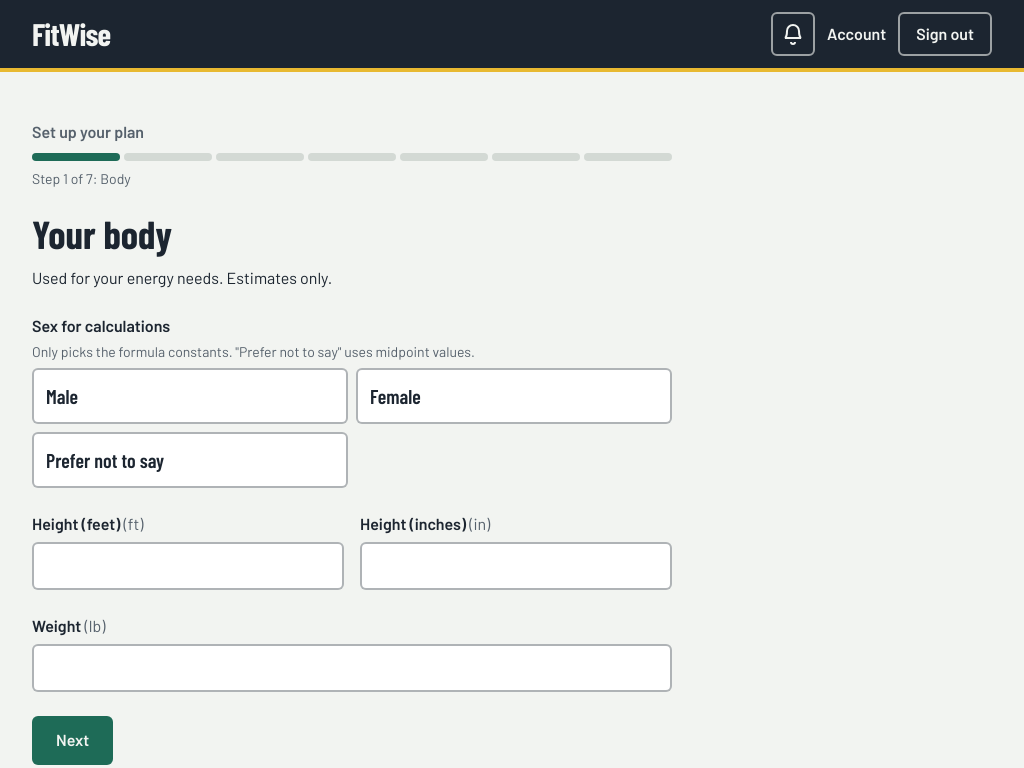
it: Onboarding wizard › shows range errors in the user's units and stays on the step
Expected: the heading "Your body" is shown, x1=32 y1=210 x2=172 y2=257
Click the radio button labelled "Female" at (395, 396), box x1=356 y1=368 x2=672 y2=424
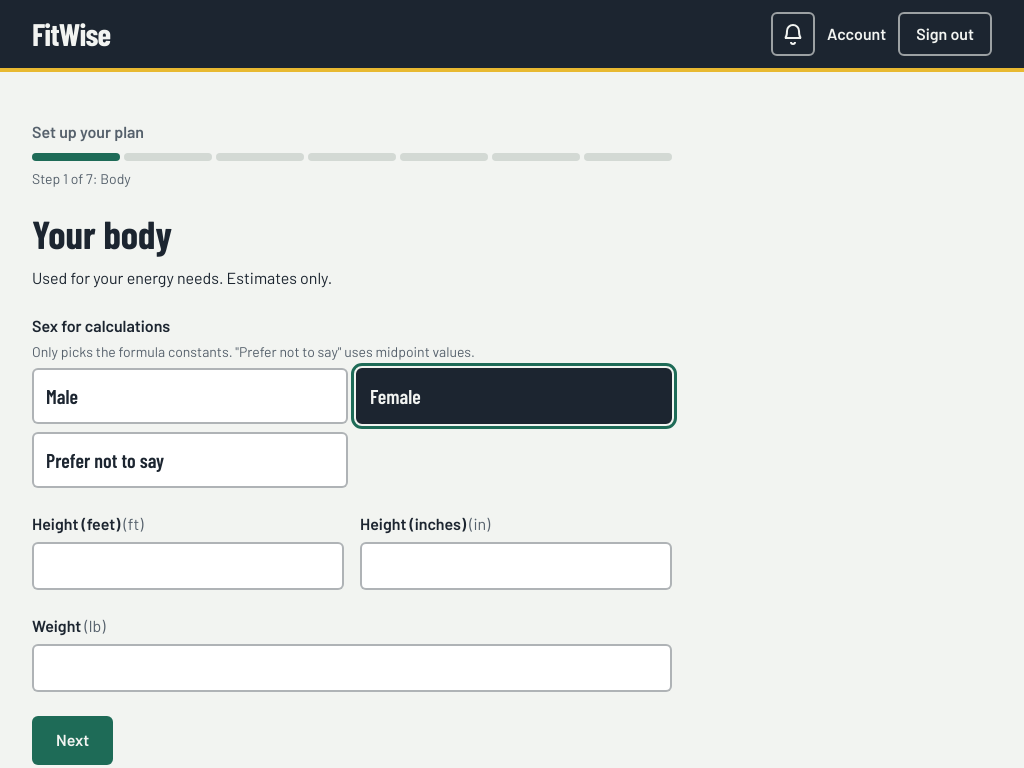
Type "3" into the field labelled "Height (feet) (ft)" at (188, 566), box x1=32 y1=542 x2=344 y2=590
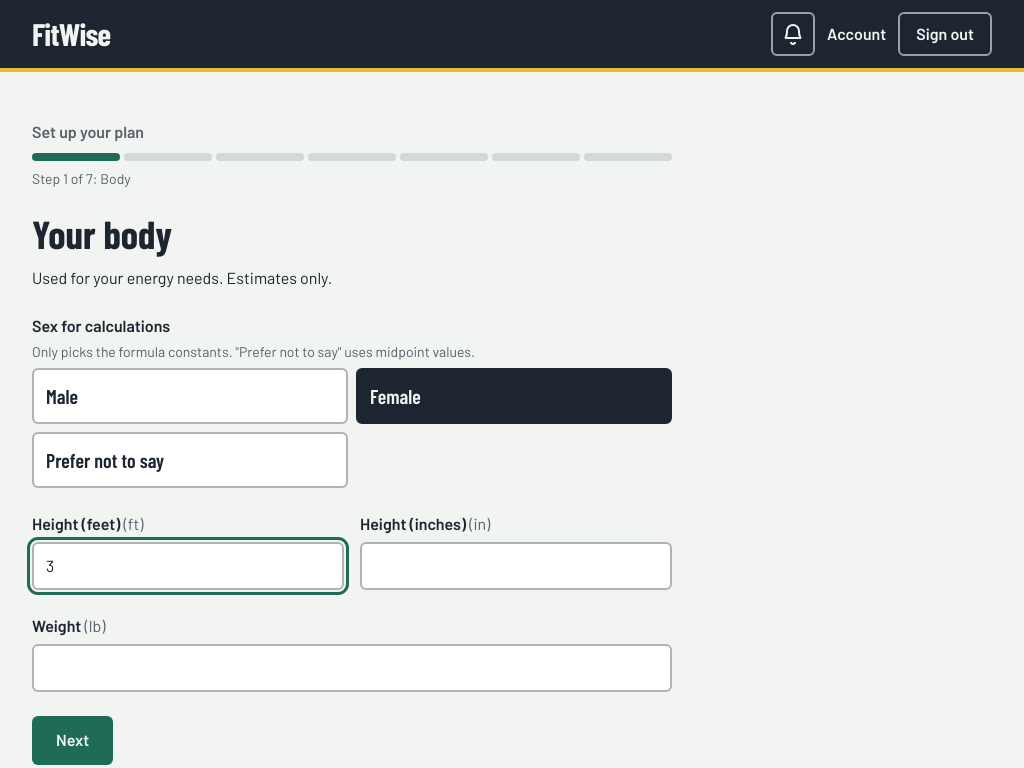
Type "20" into the field labelled "Weight (lb)" at (352, 668), box x1=32 y1=644 x2=672 y2=692
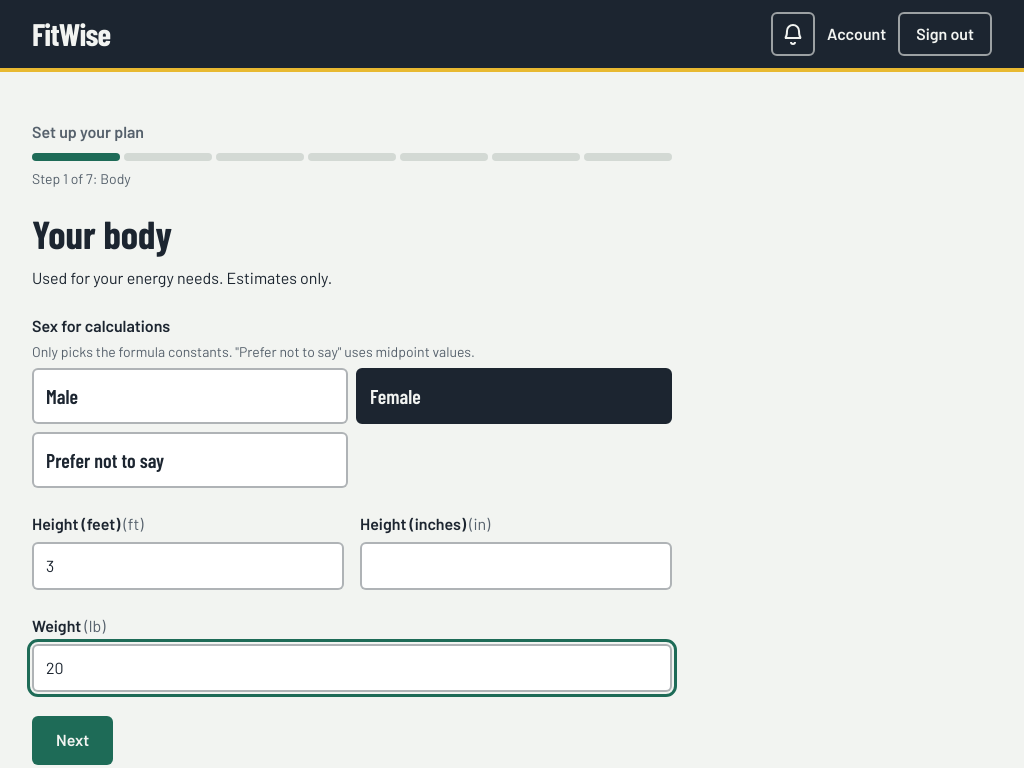
Click the button "Next" at (73, 741), box x1=32 y1=716 x2=113 y2=765
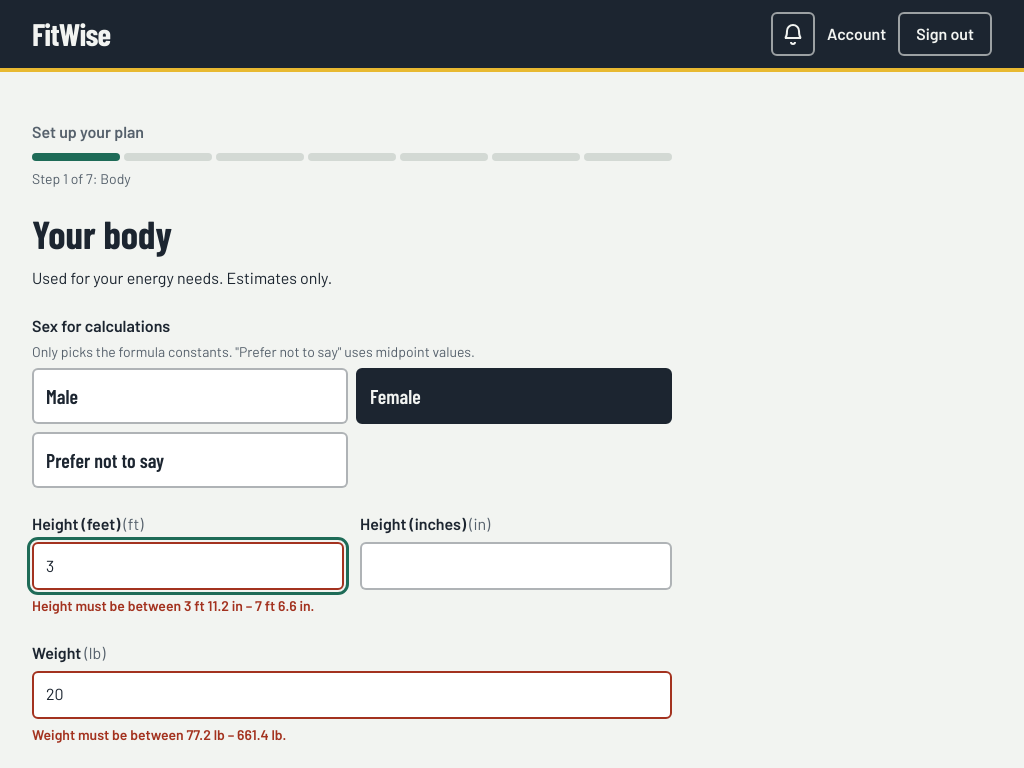
Expected: the heading "Your body" is shown, x1=32 y1=210 x2=172 y2=257
Expected: the text "Height must be between 3 ft 11.2 in – 7 ft 6.6 in." is shown, x1=32 y1=596 x2=344 y2=617
Expected: the text "Weight must be between 77.2 lb – 661.4 lb." is shown, x1=32 y1=726 x2=286 y2=743
